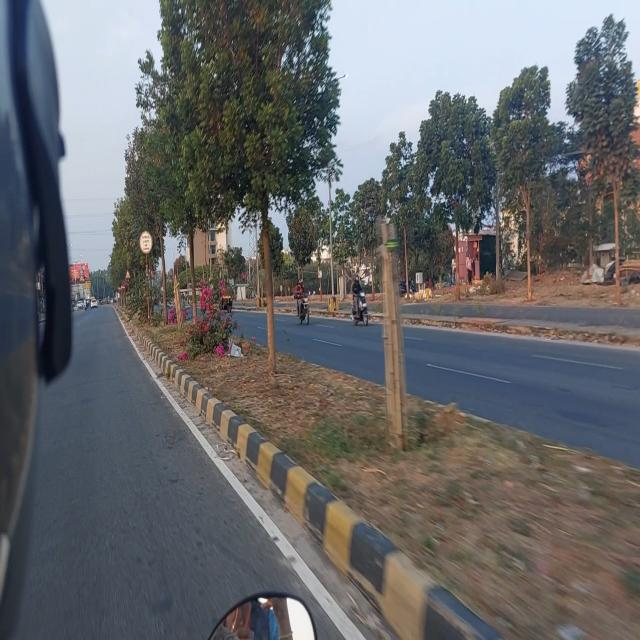bien_cam: (139, 231, 154, 254)
